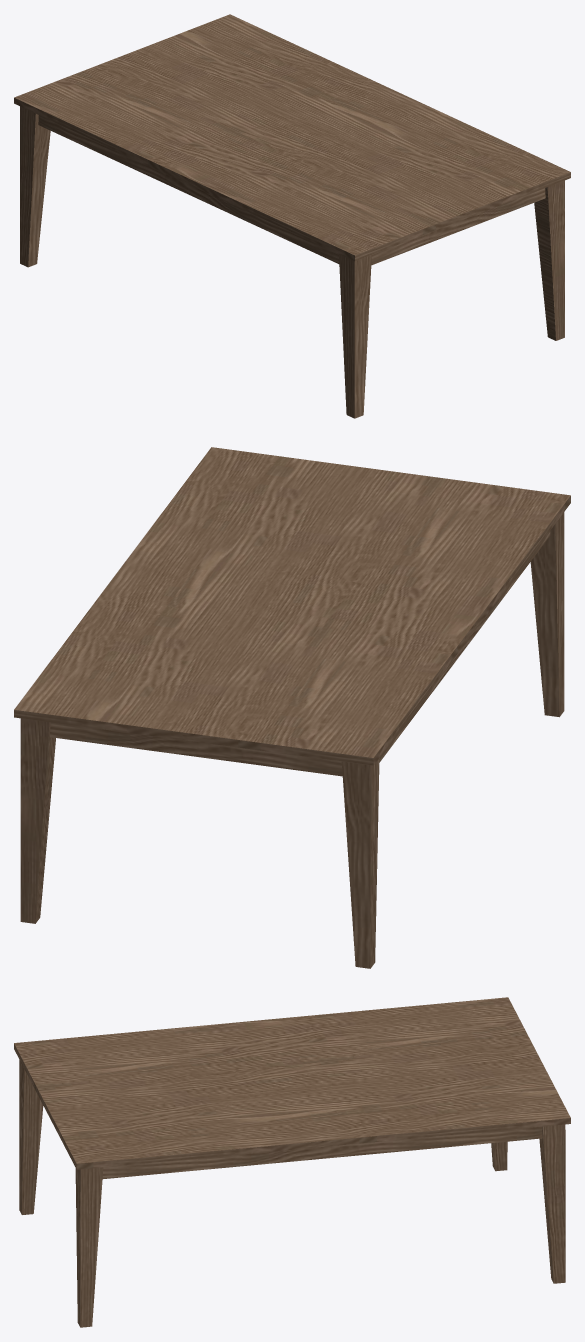
3 views of the same model, one above another, from view 1: azimuth 30°, elevation 25°; view 2: azimuth 150°, elevation 25°; view 3: azimuth 270°, elevation 25° (orthographic). The views are drawn at different scales.
Parts seen in each view (by area): view 1: Table_13005_Wood_08003_0; view 2: Table_13005_Wood_08003_0; view 3: Table_13005_Wood_08003_0.
Boxes of the visible parts, box(x1,y1,x2,y2) form: Table_13005_Wood_08003_0: box(14, 14, 570, 418); Table_13005_Wood_08003_0: box(14, 447, 570, 968); Table_13005_Wood_08003_0: box(14, 997, 570, 1327).
Size of the model in its own units: 1.76 by 0.8168 by 2.49.
1 material, 1 textured.
